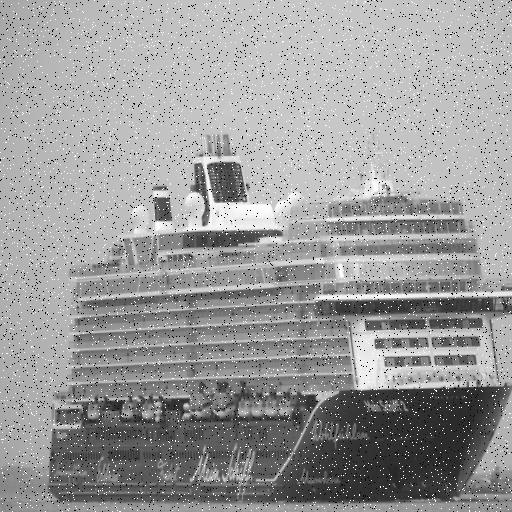cruises: (38, 133, 512, 512)
